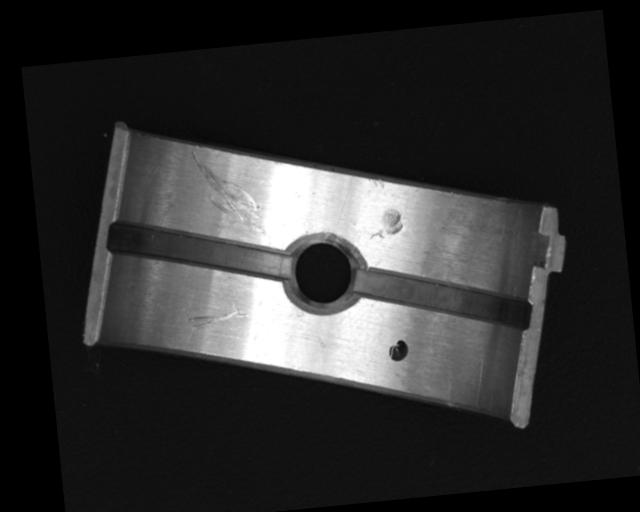blot: (386, 338, 410, 362)
bruise: (367, 206, 403, 239), (367, 177, 386, 191)
gap: (105, 204, 293, 294), (355, 253, 531, 347)
hole: (282, 231, 362, 318)
nick: (192, 144, 269, 244), (186, 306, 250, 328)
